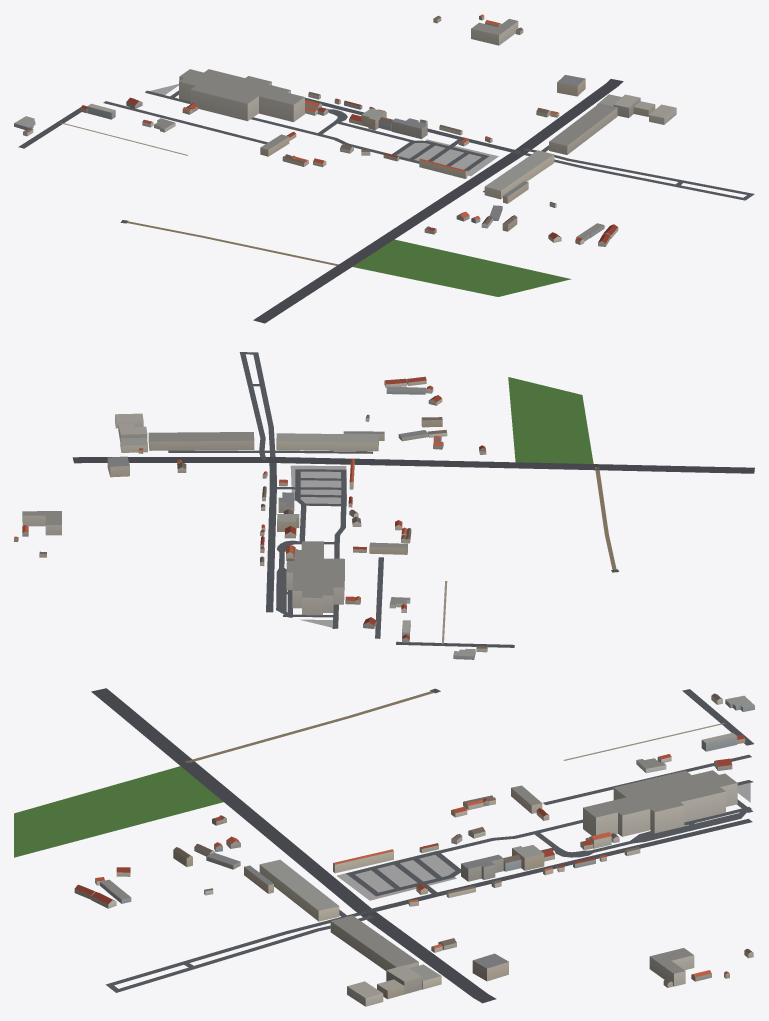
3 views of the same model, one above another, from view 1: azimuth 30°, elevation 25°; view 2: azimuth 150°, elevation 25°; view 3: azimuth 270°, elevation 25° (orthographic). The views are drawn at different scales.
Visible parts, largest first — view 1: roads, buildings_walls, buildings_roofs, landuse; view 2: roads, buildings_roofs, landuse, buildings_walls; view 3: roads, buildings_walls, buildings_roofs, landuse.
Part boxes in pixels (bbox=[...]): roads: bbox=[18, 79, 754, 323]; buildings_walls: bbox=[14, 15, 676, 246]; buildings_roofs: bbox=[14, 14, 676, 243]; landuse: bbox=[145, 84, 571, 296]; roads: bbox=[72, 352, 754, 647]; buildings_roofs: bbox=[14, 376, 487, 656]; landuse: bbox=[290, 377, 593, 628]; buildings_walls: bbox=[14, 379, 487, 659]; roads: bbox=[91, 688, 753, 1003]; buildings_walls: bbox=[74, 696, 754, 1006]; buildings_roofs: bbox=[74, 693, 754, 997]; landuse: bbox=[14, 766, 750, 900].
Bounding box in the file's own units: 512 × 16.01 × 503.
